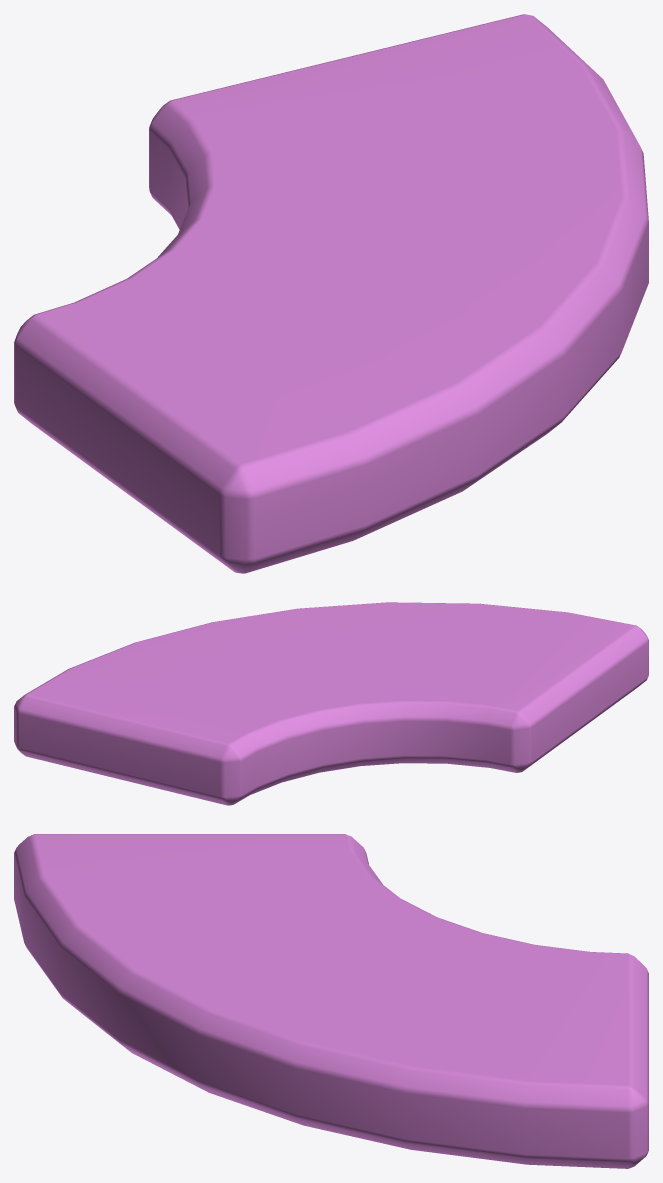
File: WayCorner.fbx
3 views of the same model, one above another, from view 1: azimuth 30°, elevation 25°; view 2: azimuth 150°, elevation 25°; view 3: azimuth 270°, elevation 25° (orthographic). The views are drawn at different scales.
Parts seen in each view (by area): view 1: Circle; view 2: Circle; view 3: Circle.
Boxes of the visible parts, box(x1,y1,x2,y2) form: Circle: box(14, 14, 648, 573); Circle: box(14, 602, 648, 805); Circle: box(14, 834, 648, 1168).
Bounding box in the file's own units: 4.8 × 0.6978 × 4.8.
